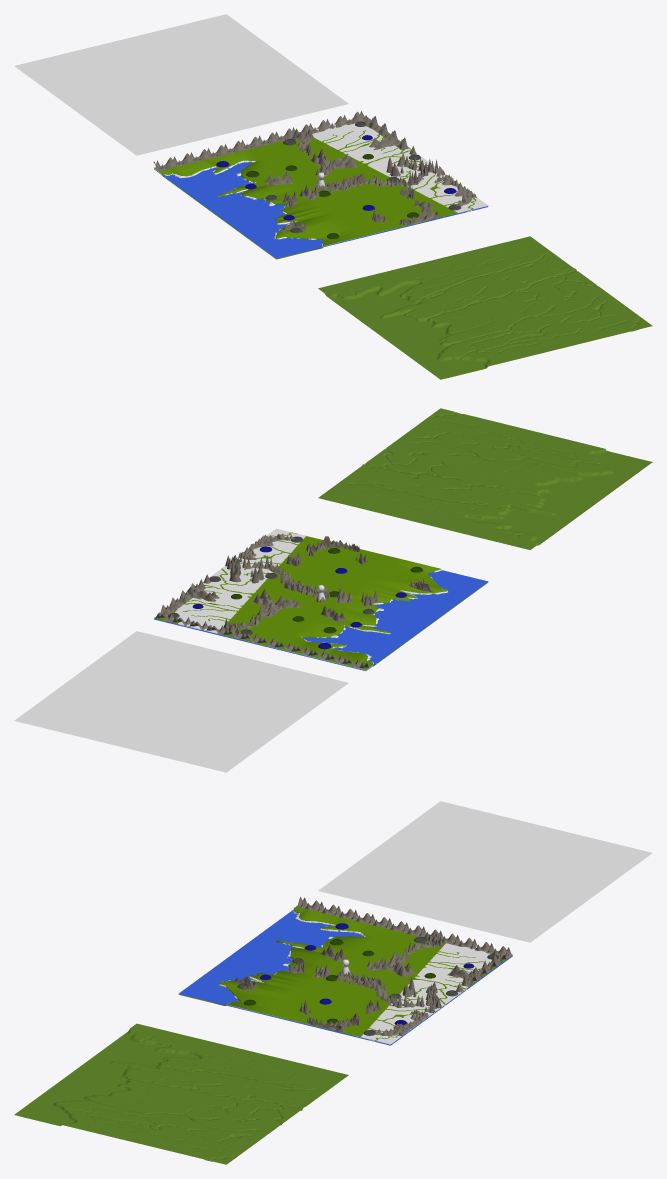
Rendered from PlayerBaseModel.glb.
The picture shows the model from 3 angles, top to bottom: view 1: azimuth 30°, elevation 25°; view 2: azimuth 150°, elevation 25°; view 3: azimuth 330°, elevation 25°; orthographic projection.
Parts seen in each view (by area): view 1: LandscapeSprint1Copy, normal mapBake, mapLowPoly, bergePlatzhalter, water, LandscapeSprint1, citymarkers; view 2: LandscapeSprint1Copy, normal mapBake, mapLowPoly, bergePlatzhalter, water, LandscapeSprint1, citymarkers; view 3: normal mapBake, LandscapeSprint1Copy, mapLowPoly, bergePlatzhalter, water, LandscapeSprint1, citymarkers.
Part boxes in pixels (<box>): LandscapeSprint1Copy: <box>318,236,652,379</box>; normal mapBake: <box>14,14,348,155</box>; mapLowPoly: <box>154,125,475,259</box>; bergePlatzhalter: <box>153,110,476,232</box>; water: <box>154,162,488,258</box>; LandscapeSprint1: <box>154,123,488,247</box>; citymarkers: <box>216,121,461,238</box>; LandscapeSprint1Copy: <box>318,408,652,549</box>; normal mapBake: <box>14,631,348,772</box>; mapLowPoly: <box>155,532,488,669</box>; bergePlatzhalter: <box>154,533,432,668</box>; water: <box>154,570,488,670</box>; LandscapeSprint1: <box>164,528,447,670</box>; citymarkers: <box>168,536,428,649</box>; normal mapBake: <box>318,801,652,942</box>; LandscapeSprint1Copy: <box>14,1023,348,1164</box>; mapLowPoly: <box>178,906,506,1040</box>; bergePlatzhalter: <box>234,896,512,1036</box>; water: <box>178,909,512,1045</box>; LandscapeSprint1: <box>182,909,491,1044</box>; citymarkers: <box>237,923,498,1035</box>.
Size of the model in its own units: 50 by 4.14 by 174.
